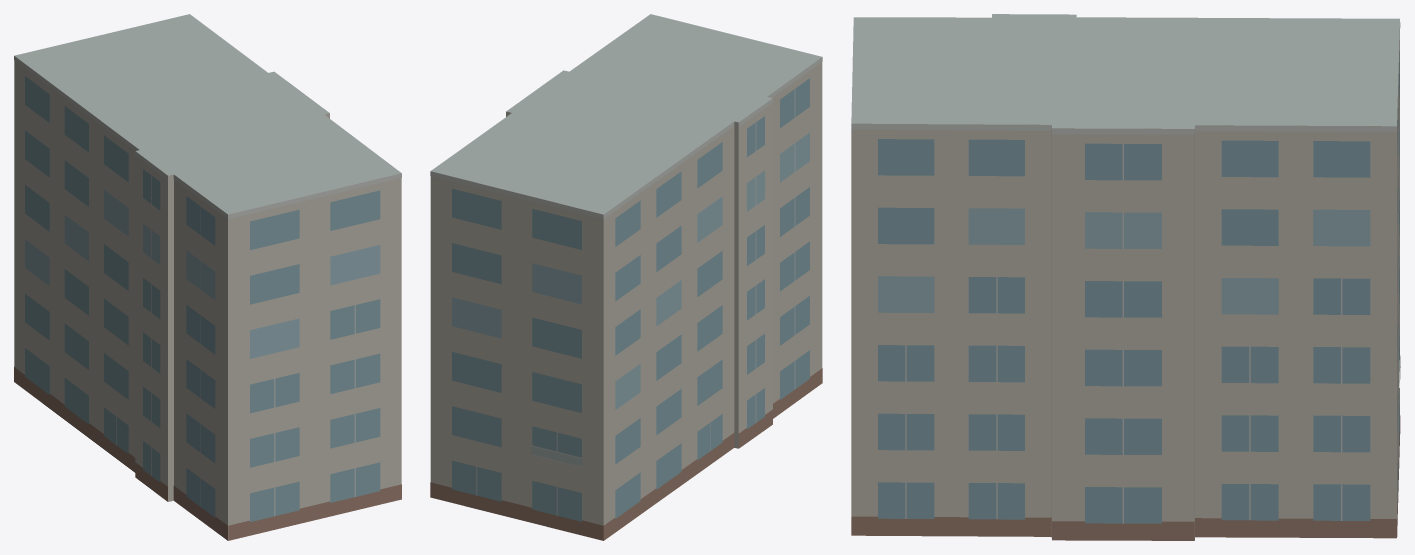
The model's file is survey-upis-32577999.glb.
3 views of the same model, side by side, from view 1: azimuth 30°, elevation 25°; view 2: azimuth 150°, elevation 25°; view 3: azimuth 270°, elevation 25° (orthographic). The views are drawn at different scales.
Visible parts, largest first — view 1: survey-upis-32577999.tmp; view 2: survey-upis-32577999.tmp; view 3: survey-upis-32577999.tmp.
Part boxes in pixels (x1,y1,x2,y2): survey-upis-32577999.tmp: (14,14,401,540); survey-upis-32577999.tmp: (430,14,822,540); survey-upis-32577999.tmp: (851,14,1400,540).
Bounding box in the file's own units: 10.24 × 17.1 × 20.68.
